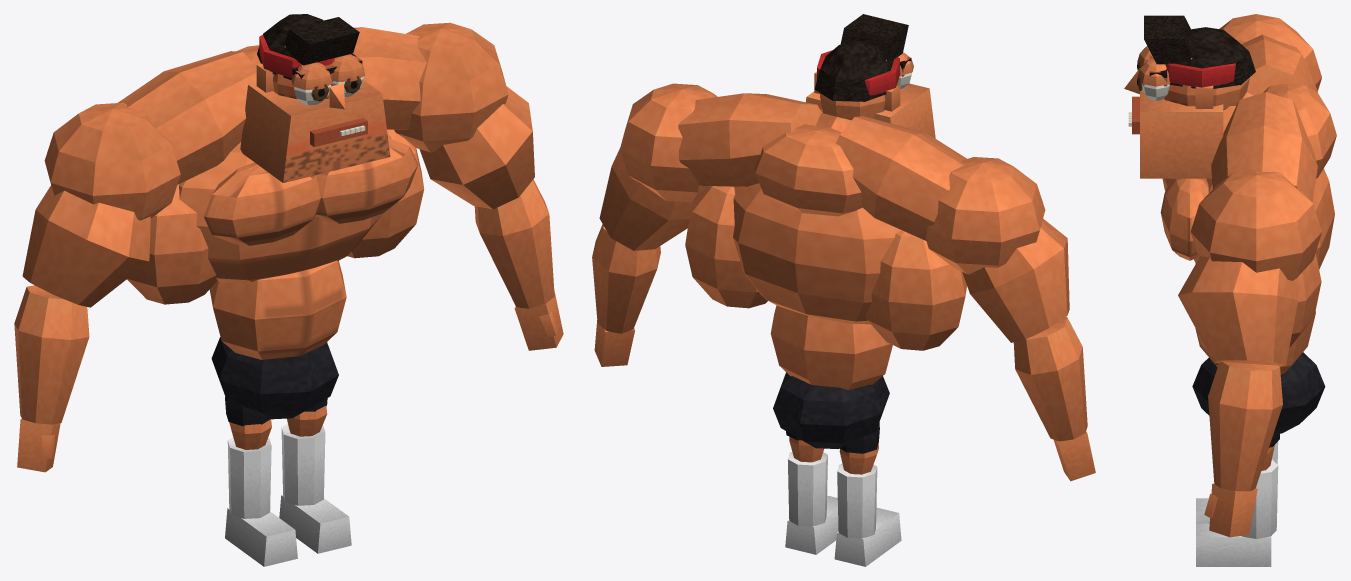
File: Boss_NoLegs.fbx
3 renders of one model, left to right at view 1: azimuth 30°, elevation 25°; view 2: azimuth 150°, elevation 25°; view 3: azimuth 270°, elevation 25°, orthographic. The views are drawn at different scales.
Visible parts, largest first — view 1: NoLegs_Export; view 2: NoLegs_Export; view 3: NoLegs_Export.
Part boxes in pixels (x1,y1,x2,y2): NoLegs_Export: (14,14,563,566); NoLegs_Export: (592,14,1095,566); NoLegs_Export: (1124,14,1336,566).
Size of the model in its own units: 7.25 by 6.82 by 2.54.
Materials: 1 (1 with a texture image).
